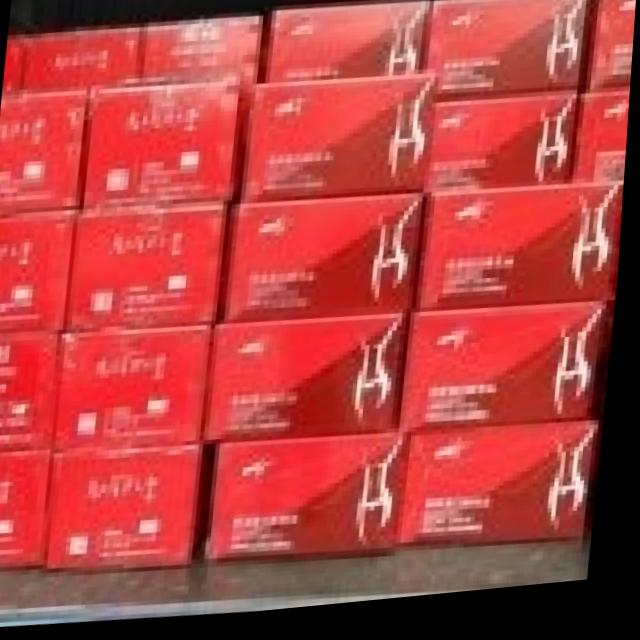box: (407, 310, 613, 440), (421, 193, 626, 317), (210, 319, 415, 442), (230, 201, 431, 325), (212, 442, 414, 565), (242, 80, 438, 205), (408, 433, 603, 552), (83, 91, 243, 215), (71, 208, 231, 332), (61, 328, 218, 450), (58, 449, 205, 569), (429, 0, 590, 109), (430, 103, 582, 198), (265, 8, 430, 88), (0, 93, 91, 214), (0, 210, 79, 331), (0, 331, 68, 455), (15, 31, 144, 95), (143, 23, 262, 90), (0, 451, 58, 566), (583, 0, 637, 104), (574, 99, 632, 195)
